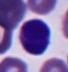L: (18, 18, 52, 55)
